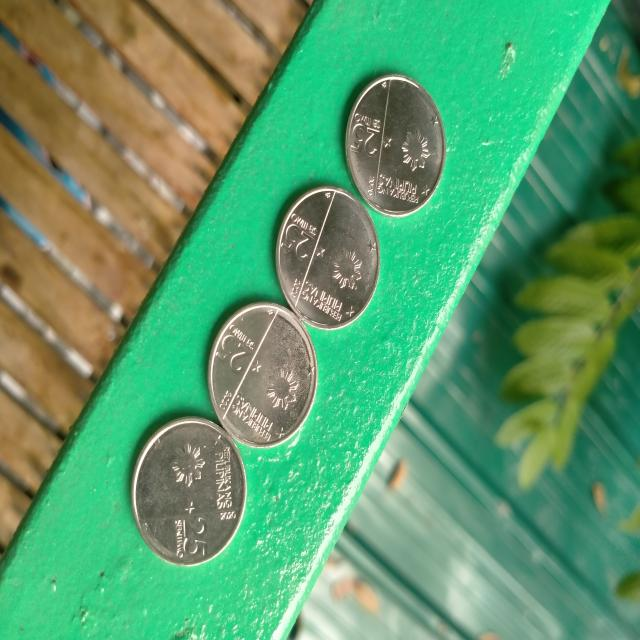25Cent_New_Front: (213, 319, 303, 442), (346, 102, 436, 204), (166, 436, 236, 560)
